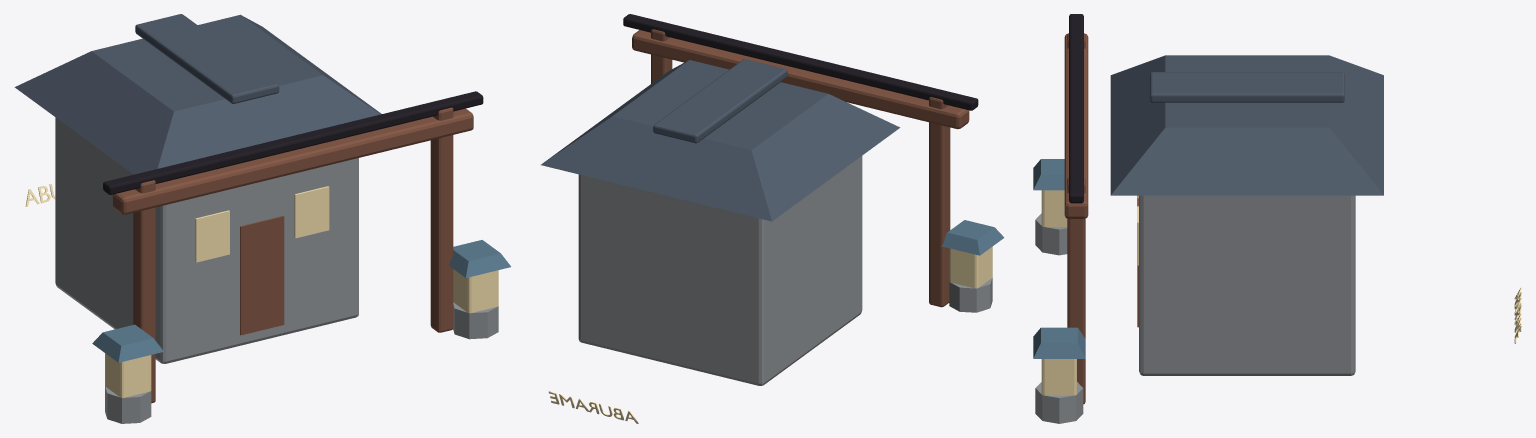
The model's file is 07_aburame.glb.
The picture shows the model from 3 angles, left to right: view 1: azimuth 30°, elevation 25°; view 2: azimuth 150°, elevation 25°; view 3: azimuth 270°, elevation 25°; orthographic projection. The views are drawn at different scales.
Parts seen in each view (by area): view 1: torii_post_L.006; view 2: torii_post_L.006, AburameLabel; view 3: torii_post_L.006.
Boxes of the visible parts, x1=… form: torii_post_L.006: x1=14, y1=14, x2=510, y2=423; torii_post_L.006: x1=541, y1=14, x2=1004, y2=385; AburameLabel: x1=548, y1=391, x2=638, y2=423; torii_post_L.006: x1=1033, y1=14, x2=1383, y2=423.
Size of the model in its own units: 7.92 by 4.78 by 8.58.
